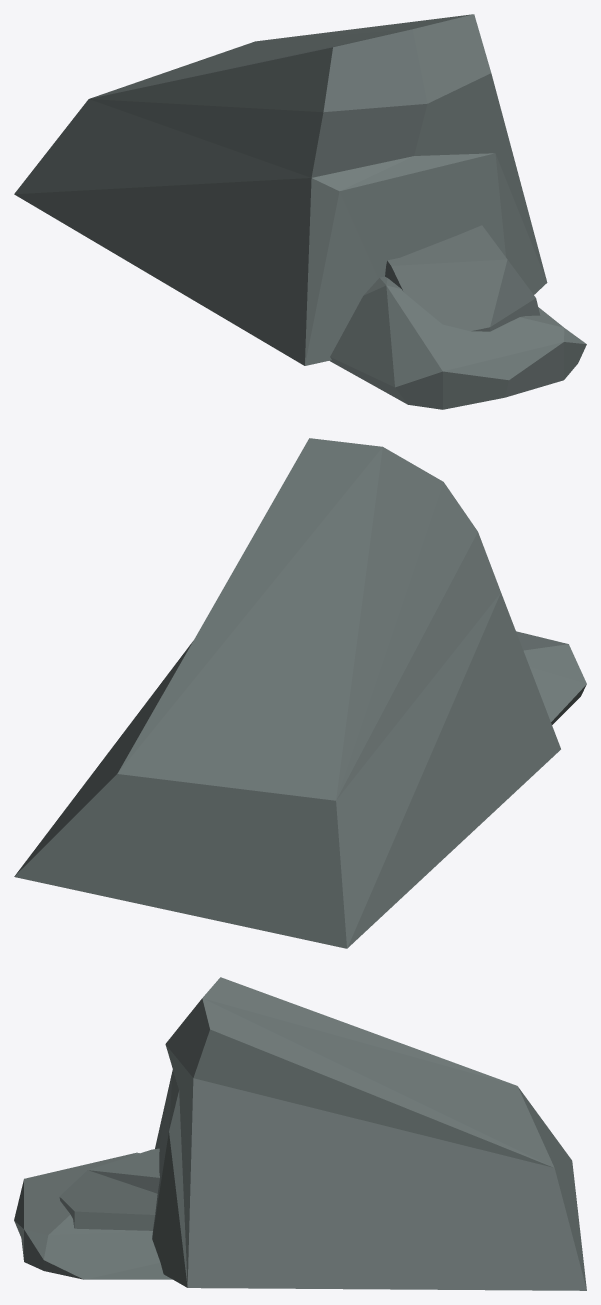
The model's file is SM_mountain_04.fbx.
The picture shows the model from 3 angles, top to bottom: view 1: azimuth 30°, elevation 25°; view 2: azimuth 150°, elevation 25°; view 3: azimuth 270°, elevation 25°; orthographic projection. The views are drawn at different scales.
Parts seen in each view (by area): view 1: mountain_04; view 2: mountain_04; view 3: mountain_04.
Part boxes in pixels (x1=…): mountain_04: x1=14, y1=14, x2=586, y2=409; mountain_04: x1=14, y1=438, x2=586, y2=948; mountain_04: x1=14, y1=977, x2=586, y2=1290.
Size of the model in its own units: 4049 by 3598 by 7558.
